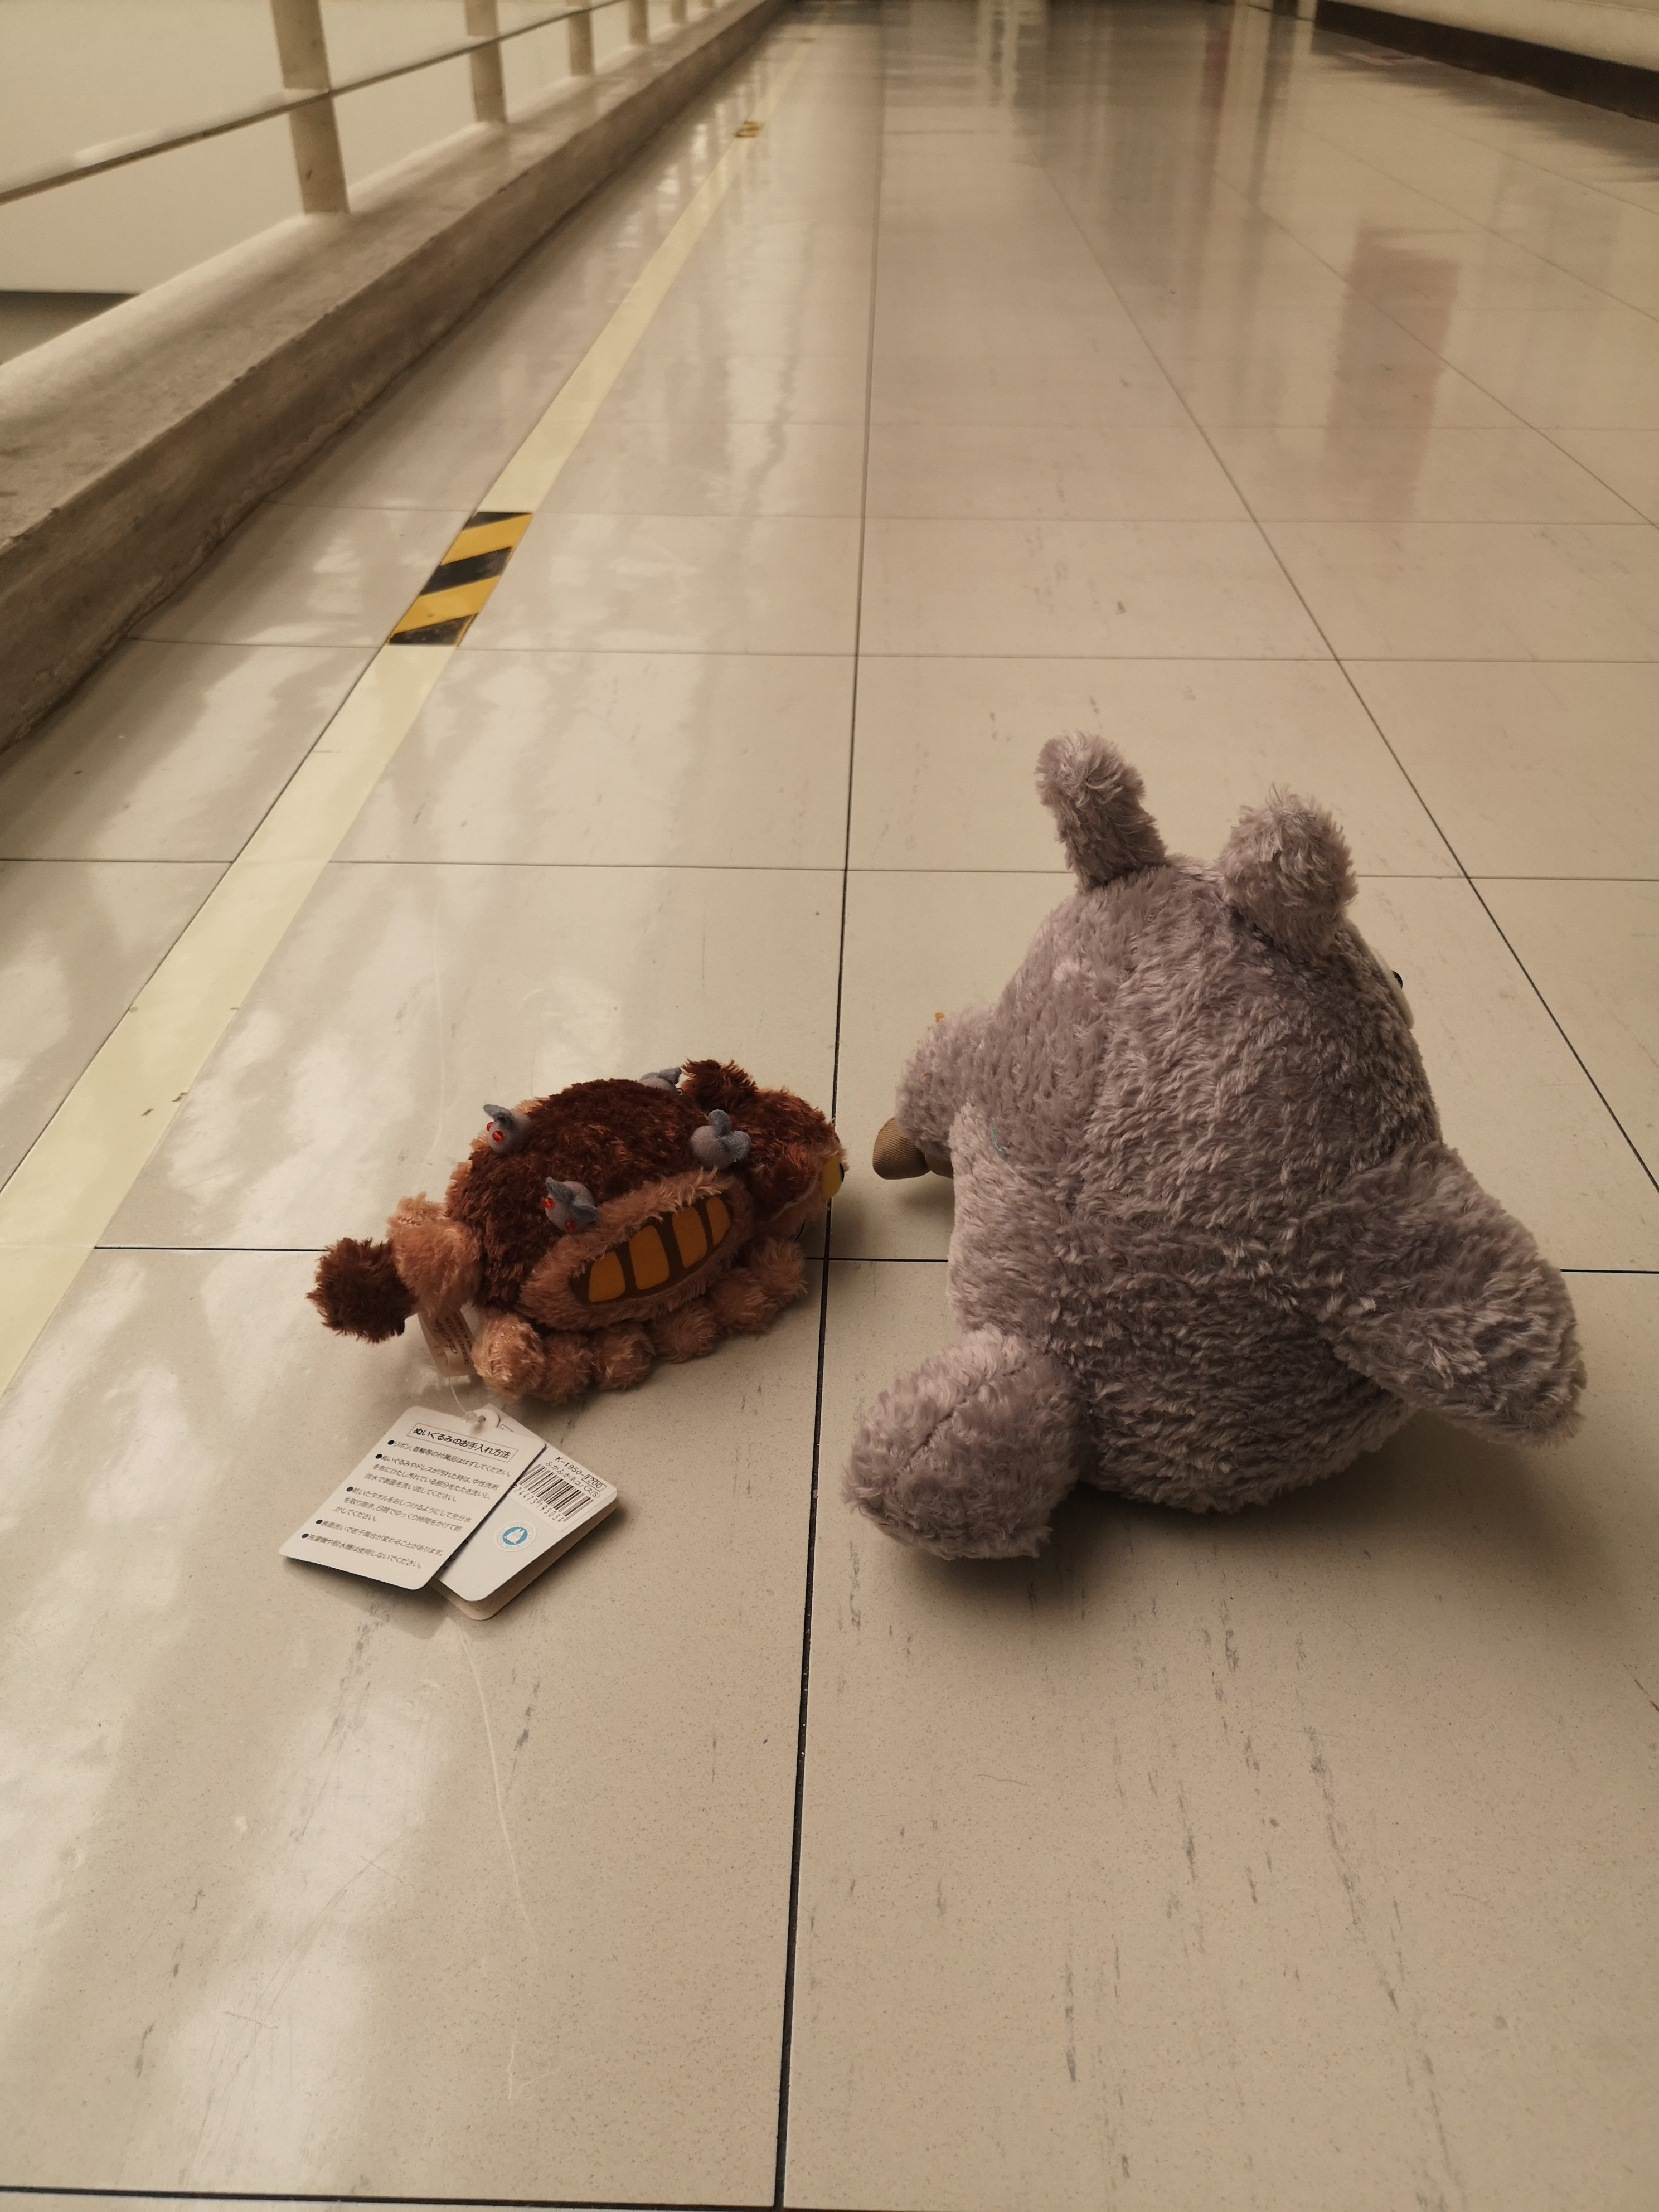nekobus: (308, 1047, 859, 1414)
totoro: (836, 721, 1586, 1585)
